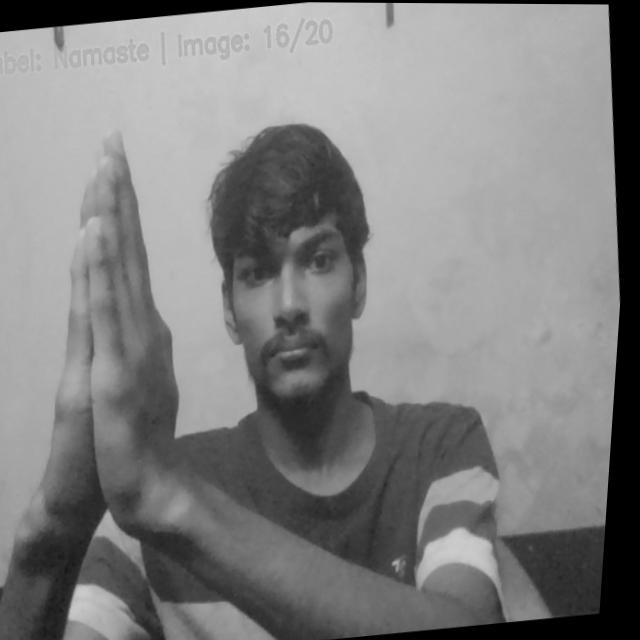Namaste: (13, 120, 213, 520)
